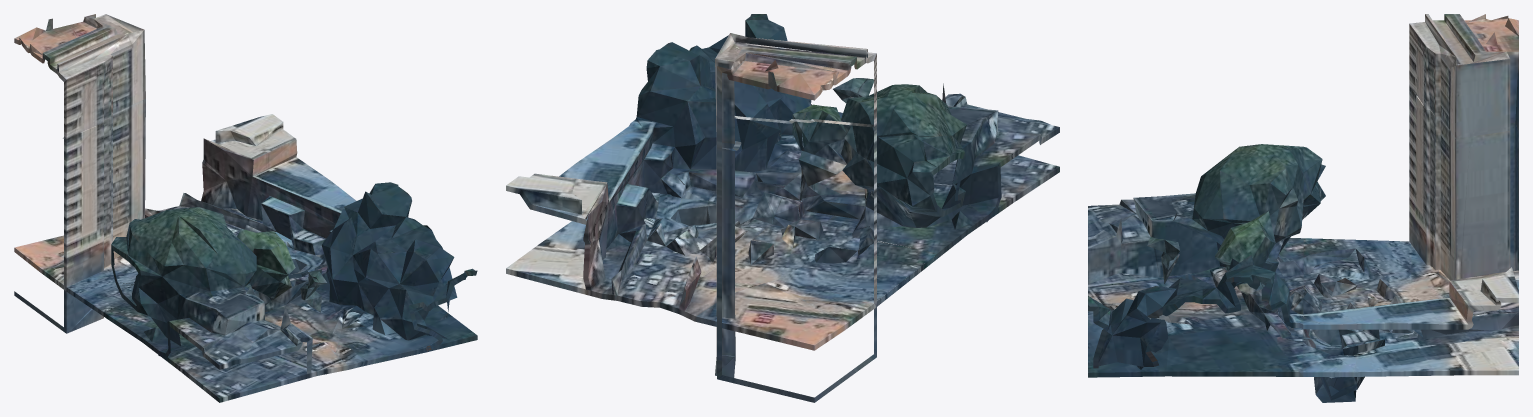
The model's file is chunk_-8_3.glb.
3 views of the same model, side by side, from view 1: azimuth 30°, elevation 25°; view 2: azimuth 150°, elevation 25°; view 3: azimuth 270°, elevation 25° (orthographic). The views are drawn at different scales.
Parts seen in each view (by area): view 1: hero-chunk; view 2: hero-chunk; view 3: hero-chunk.
Part boxes in pixels (left/top/right/bottom): hero-chunk: left=14, top=14, right=477, bottom=402; hero-chunk: left=506, top=14, right=1059, bottom=402; hero-chunk: left=1088, top=14, right=1518, bottom=402.
Bounding box in the file's own units: 55.73 × 58.71 × 76.33.
3 materials, 3 textured.
